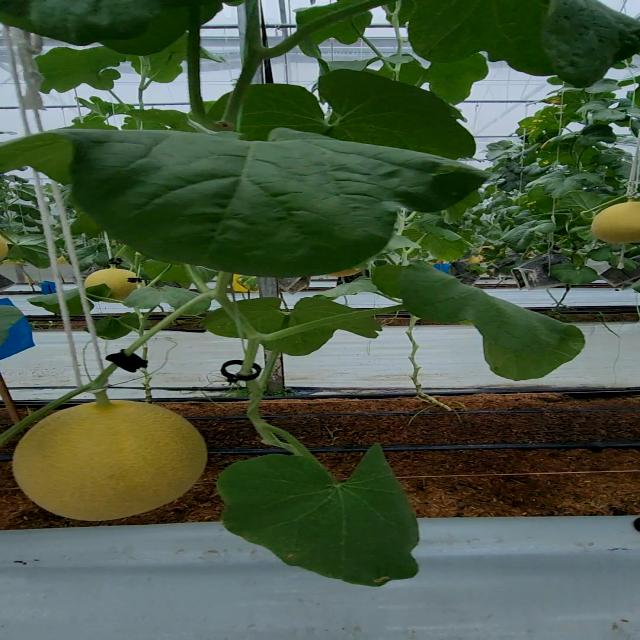Front-melon: (11, 401, 210, 520)
Rear-melon: (592, 201, 640, 244)
